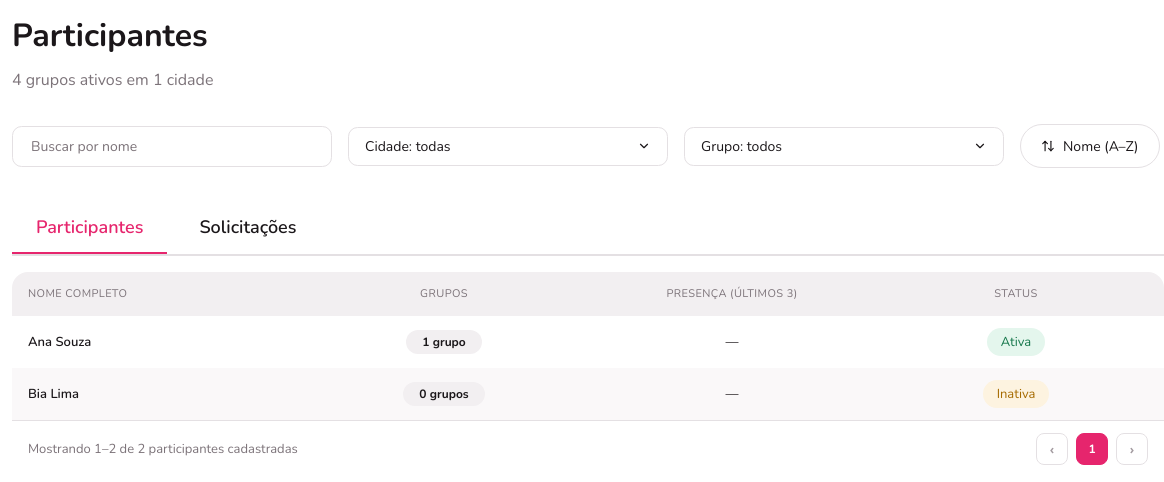
Test: Participants › inverte a ordenação
Expected: the text "Ana Souza" is shown, [28,333,91,351]
Click the button "Nome (A–Z)" at (1090, 146), box [1020,124,1160,168]
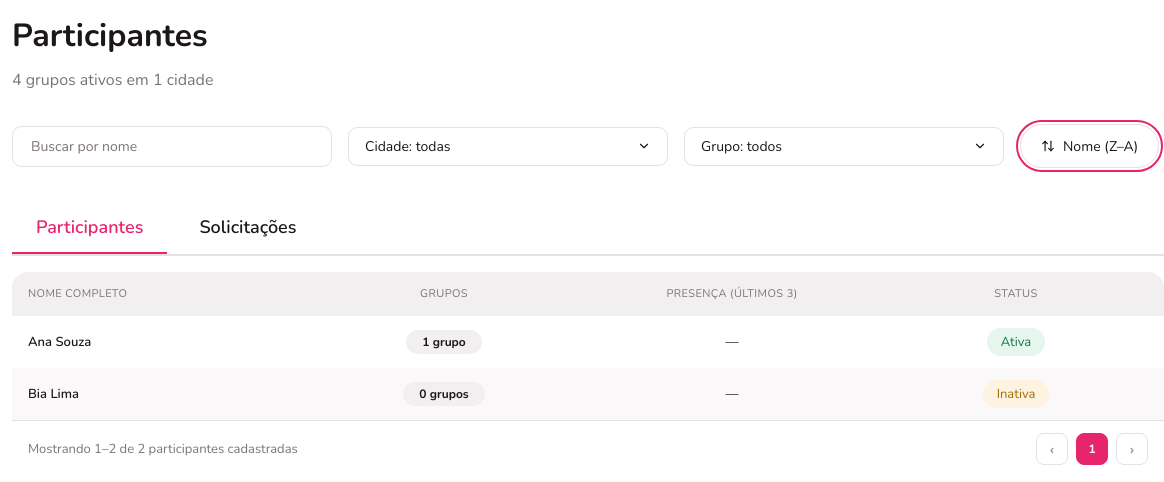
Expected: the button "Nome (Z–A)" is shown, [1020,124,1159,168]
